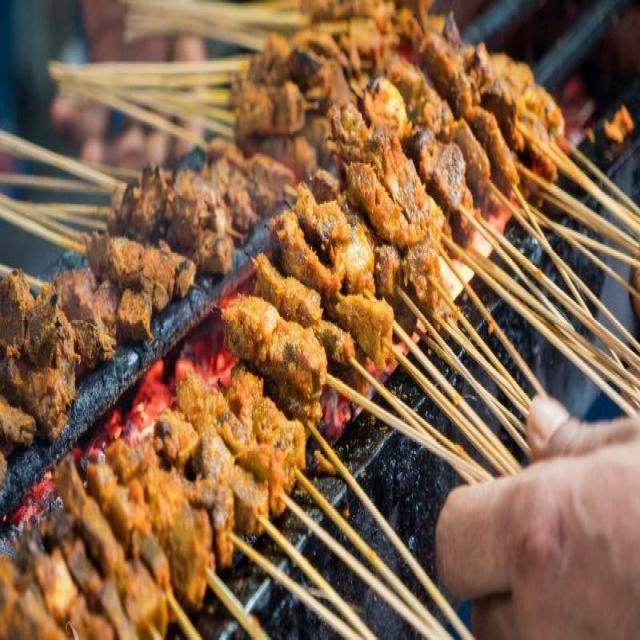Sate: (13, 4, 638, 618)
